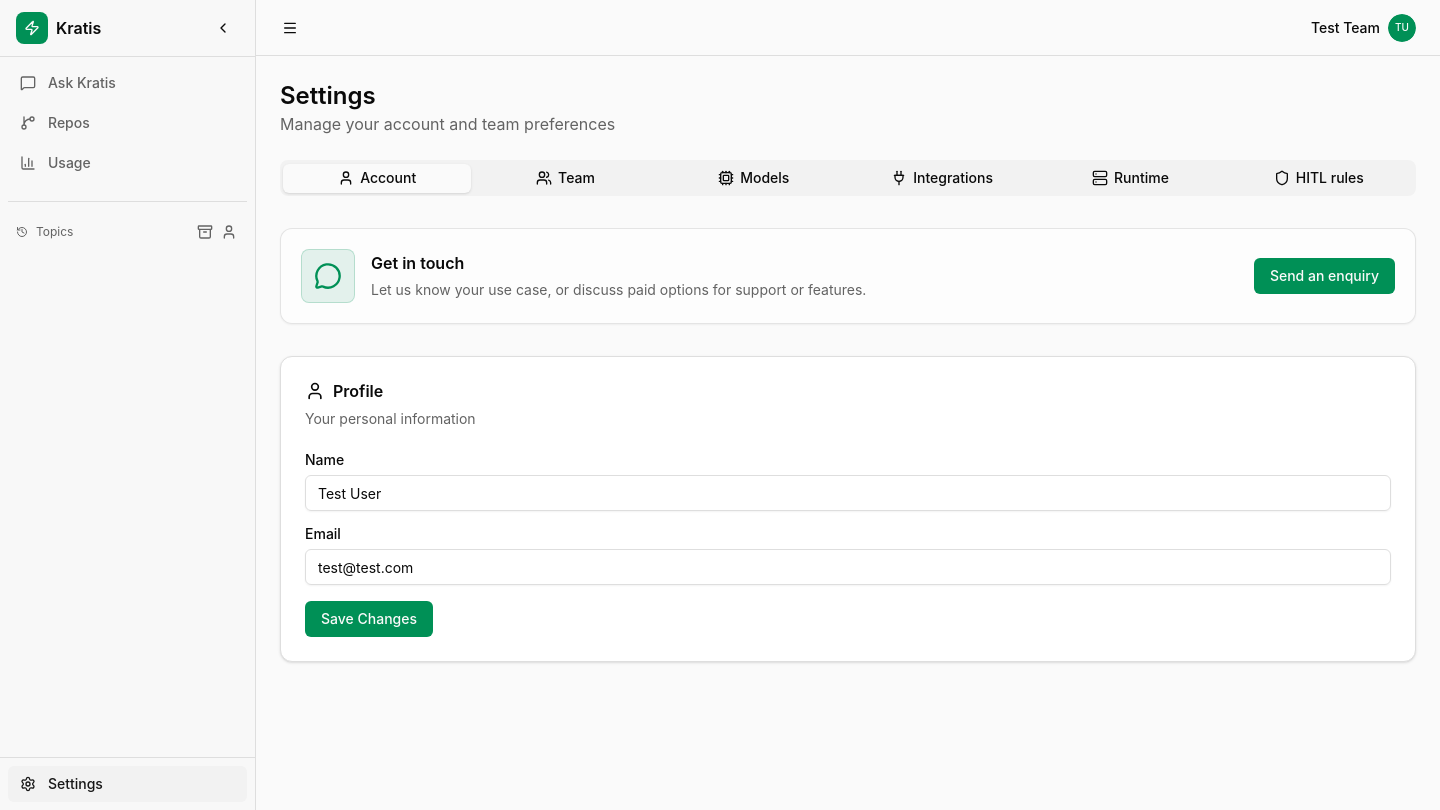
Credentials Flow › shows empty state when no credentials exist
The width and height of the screenshot is (1440, 810).
Click the tab "Integrations". click: (942, 178)
box: [848,164,1036,192]
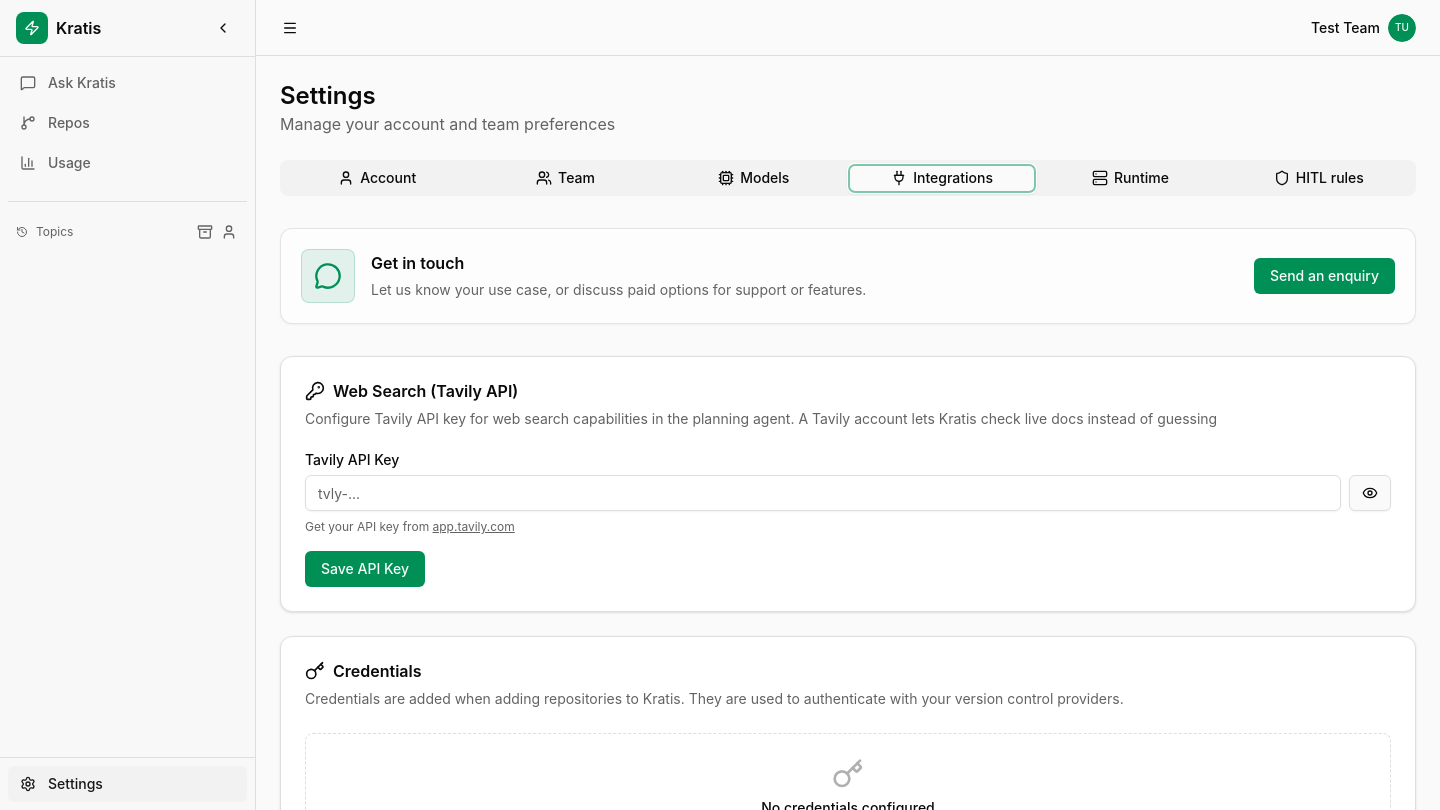
Expected: the text "Credentials" is shown, [333,663,422,679]
